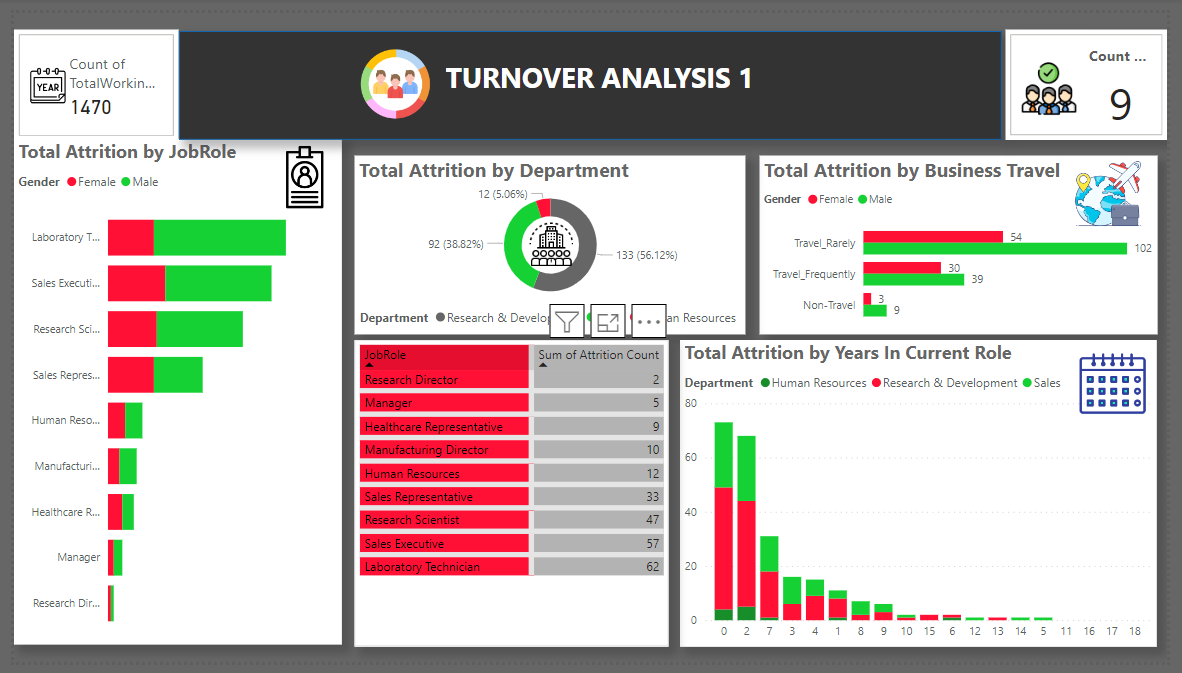

This screenshot's page, from the dashboard's own definition file:
{"tool":"powerbi","page":{"name":"TURNOVER ANALYSIS I","canvas":[1280,720],"ordinal":2},"visuals":[{"type":"barChart","title":"Total Attrition by JobRole ","fields":{"Category":["HR-Employee-Attrition.JobRole"],"Y":["Sum(HR-Employee-Attrition.Attrition Count)"],"Series":["HR-Employee-Attrition.Gender"]},"box":[0,139.8,363.9,561.2],"z":0},{"type":"clusteredBarChart","title":"Total Attrition by Business Travel","fields":{"Category":["HR-Employee-Attrition.BusinessTravel"],"Y":["Sum(HR-Employee-Attrition.Attrition Count)"],"Series":["HR-Employee-Attrition.Gender"]},"box":[827.6,157.7,442,198.6],"z":1000},{"type":"donutChart","title":"Total Attrition by Department","fields":{"Category":["HR-Employee-Attrition.Department"],"Y":["Sum(HR-Employee-Attrition.Attrition Count)"]},"box":[377.8,157.7,434.2,198.6],"z":2000},{"type":"columnChart","title":"Total Attrition by Years In Current Role ","fields":{"Category":["HR-Employee-Attrition.YearsInCurrentRole"],"Y":["Sum(HR-Employee-Attrition.Attrition Count)"],"Series":["HR-Employee-Attrition.Department"]},"box":[740,362.2,529.7,340.8],"z":3000},{"type":"shape","box":[183,19.5,913.3,120.7],"z":4000},{"type":"tableEx","fields":{"Values":["HR-Employee-Attrition.JobRole","Sum(HR-Employee-Attrition.Attrition Count)"]},"box":[377.8,362.2,348.6,340.8],"z":5000},{"type":"cardVisual","fields":{"Data":["Count(HR-Employee-Attrition.JobRole)"]},"box":[1100.2,17.5,179.1,122.7],"z":6000},{"type":"image","box":[558.9,225.9,74,60.4],"z":7000},{"type":"cardVisual","fields":{"Data":["CountNonNull(HR-Employee-Attrition.TotalWorkingYears)"]},"box":[0,18.5,183,123.3],"z":8000},{"type":"image","box":[281.6,137.7,82.2,88.4],"z":9000},{"type":"image","box":[378.2,32.9,90.4,90.4],"z":10000},{"type":"image","box":[1171.7,357.7,94.6,102.8],"z":11000},{"type":"image","box":[1171.7,158.3,84.3,84.3],"z":12000}]}

Visuals, with their boxes in screenshot pixels (x1, y1, x2, y2), scaled from the page's 1280x720 canvas onto the 1182x673 screenshot:
"Total Attrition by JobRole " barChart: [left=0, top=131, right=336, bottom=655]
"Total Attrition by Business Travel" clusteredBarChart: [left=764, top=147, right=1172, bottom=333]
"Total Attrition by Department" donutChart: [left=349, top=147, right=750, bottom=333]
"Total Attrition by Years In Current Role " columnChart: [left=683, top=339, right=1172, bottom=657]
shape: [left=169, top=18, right=1012, bottom=131]
tableEx - HR-Employee-Attrition.JobRole x Sum(HR-Employee-Attrition.Attrition Count): [left=349, top=339, right=671, bottom=657]
cardVisual - Count(HR-Employee-Attrition.JobRole): [left=1016, top=16, right=1181, bottom=131]
image: [left=516, top=211, right=584, bottom=268]
cardVisual - CountNonNull(HR-Employee-Attrition.TotalWorkingYears): [left=0, top=17, right=169, bottom=133]
image: [left=260, top=129, right=336, bottom=211]
image: [left=349, top=31, right=433, bottom=115]
image: [left=1082, top=334, right=1169, bottom=430]
image: [left=1082, top=148, right=1160, bottom=227]
